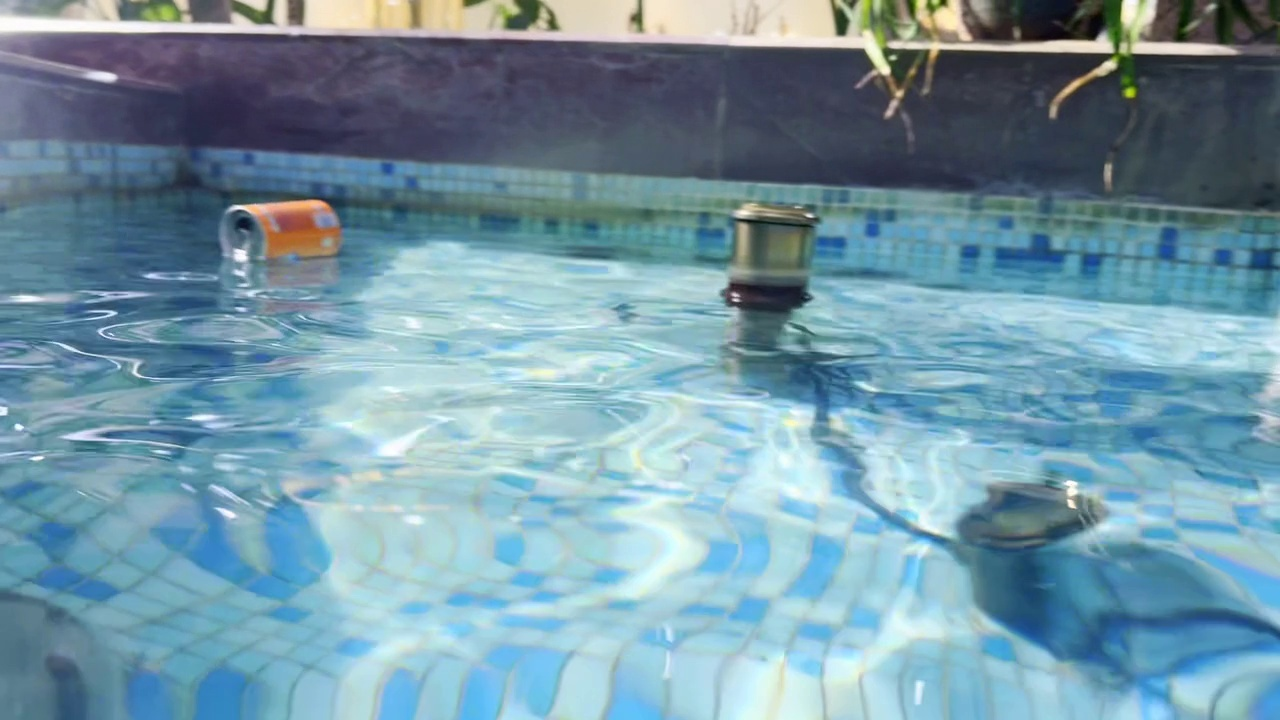debris: (210, 192, 342, 275)
